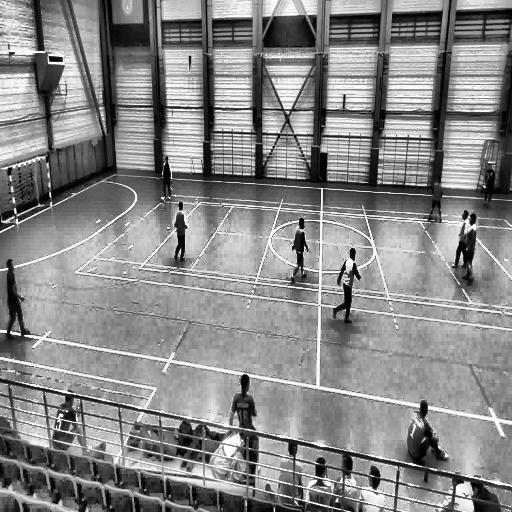ball: (160, 194, 165, 206)
player: (332, 247, 362, 324), (5, 259, 28, 336), (290, 217, 308, 284), (462, 212, 477, 291), (452, 210, 470, 271), (174, 200, 188, 264), (427, 175, 442, 221), (482, 162, 495, 214), (162, 157, 172, 198)
